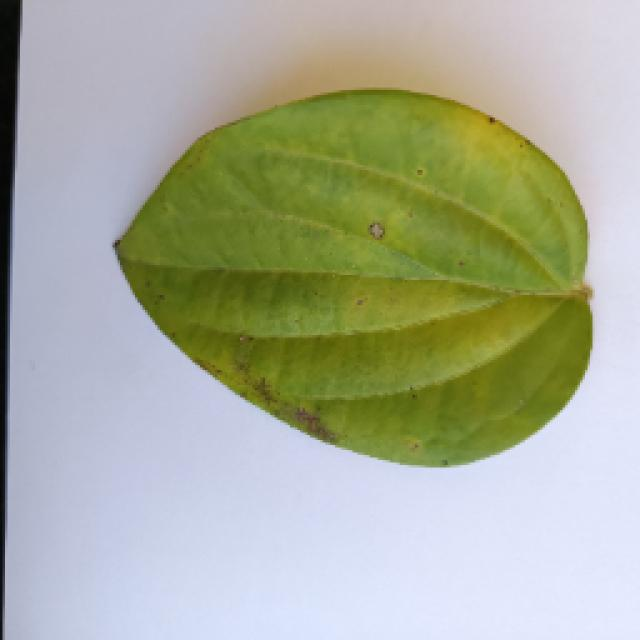slow-decline: (110, 85, 595, 470)
